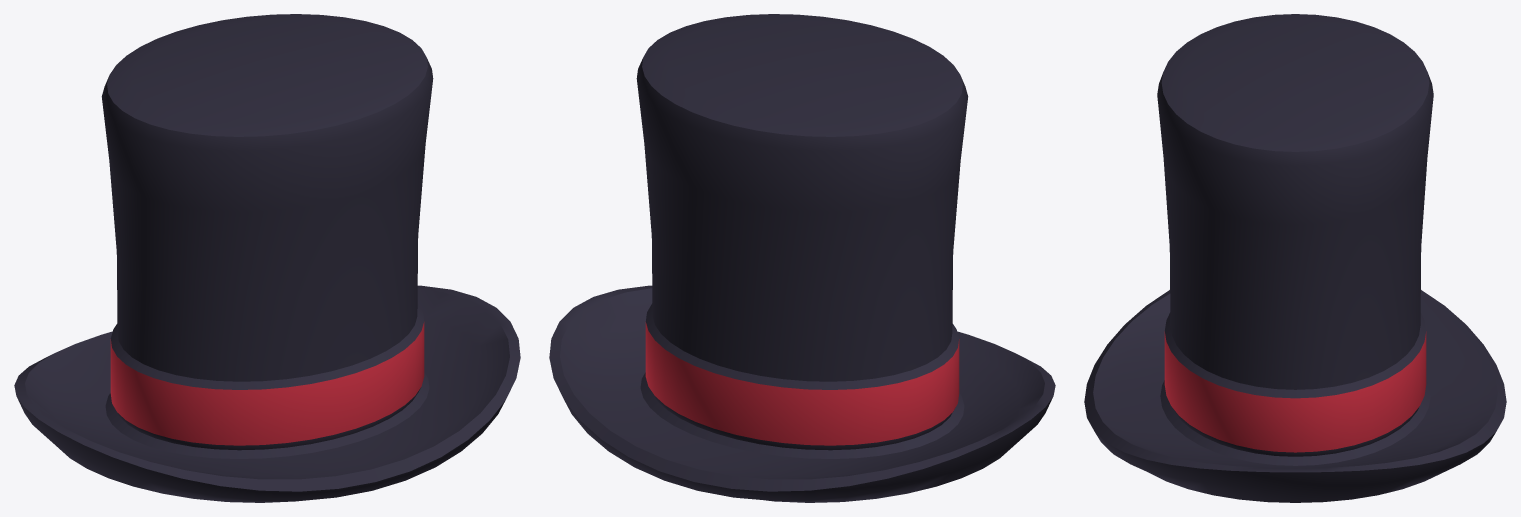
The model's file is top_hat.glb.
3 renders of one model, left to right at view 1: azimuth 30°, elevation 25°; view 2: azimuth 150°, elevation 25°; view 3: azimuth 270°, elevation 25°, orthographic. The views are drawn at different scales.
Parts seen in each view (by area): view 1: top_hat; view 2: top_hat; view 3: top_hat.
Boxes of the visible parts, <box> form: top_hat: <box>14,14,520,502</box>; top_hat: <box>549,14,1055,502</box>; top_hat: <box>1084,14,1506,502</box>.
Bounding box in the file's own units: 0.672 × 0.495 × 0.551.
